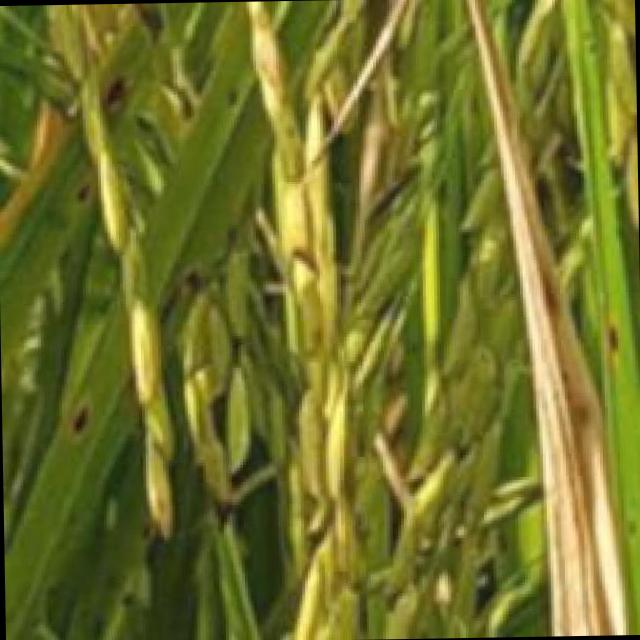Rice_Bacterial_Blight: (448, 0, 628, 635)
